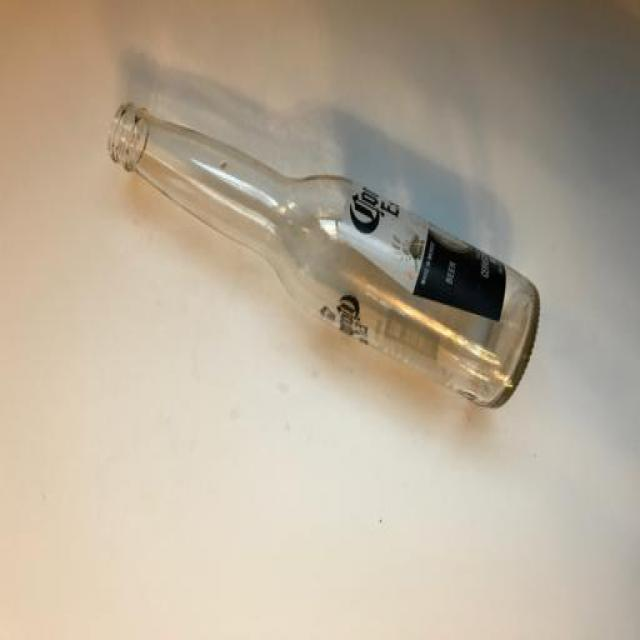glass: (104, 62, 586, 482)
